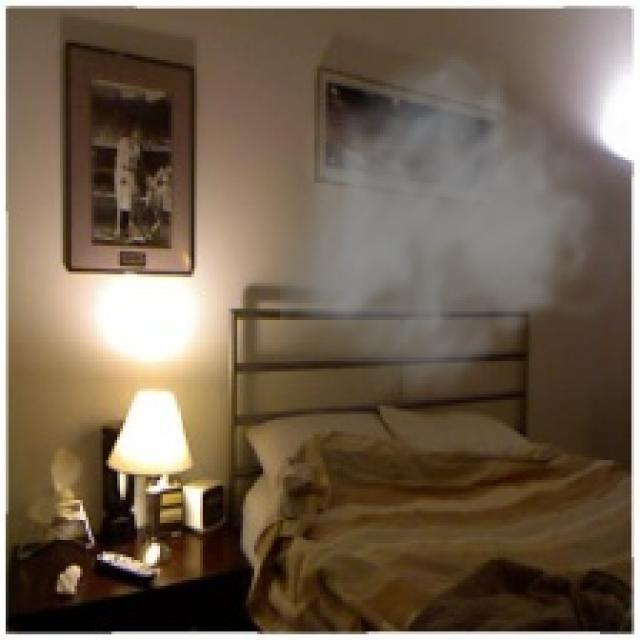smoke: (280, 37, 634, 412)
